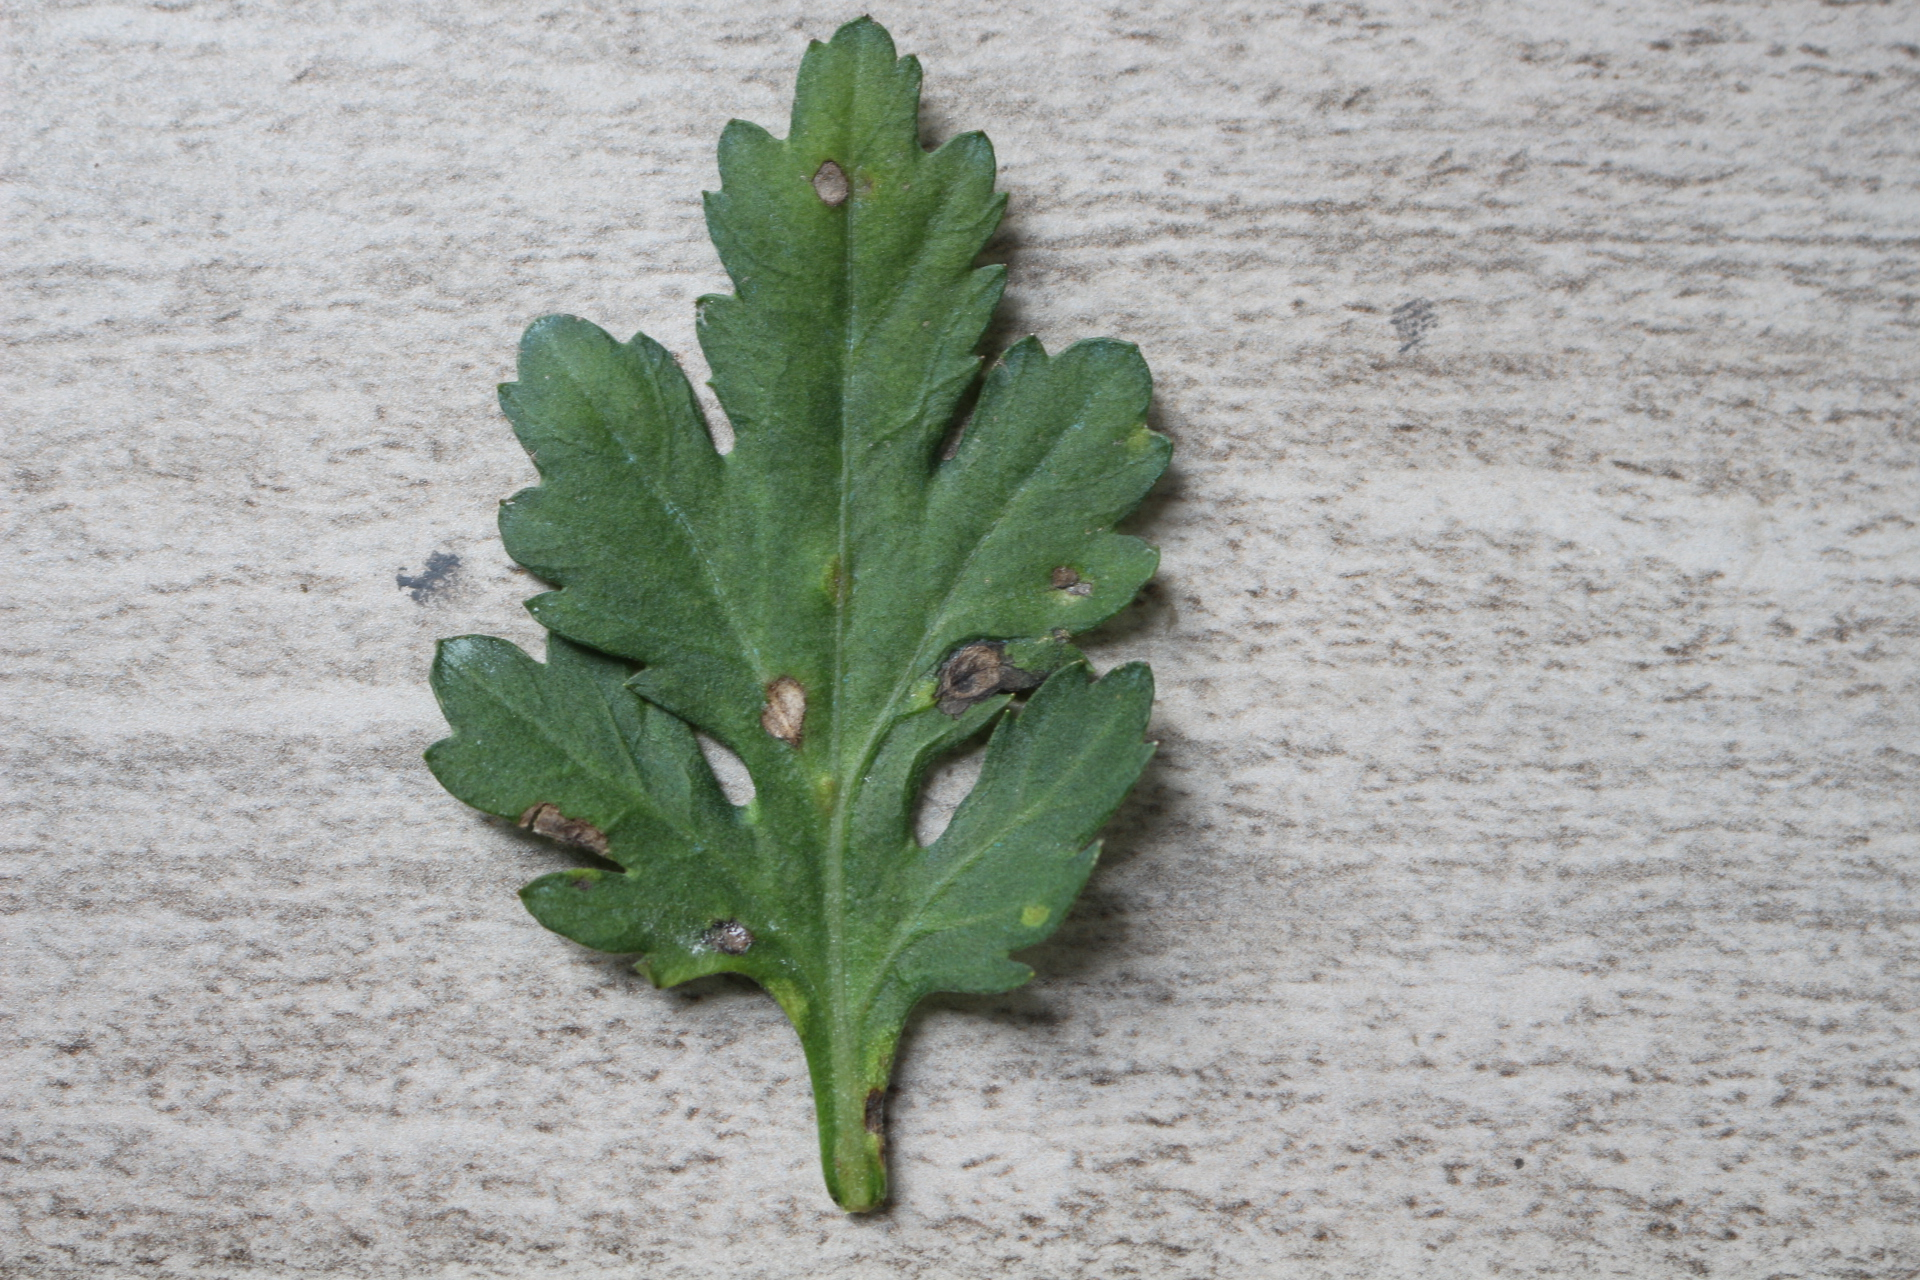namden: (929, 629, 1016, 713), (751, 674, 810, 749), (806, 160, 859, 213), (699, 914, 759, 956)
namsung: (814, 549, 854, 610), (1011, 894, 1059, 934)
